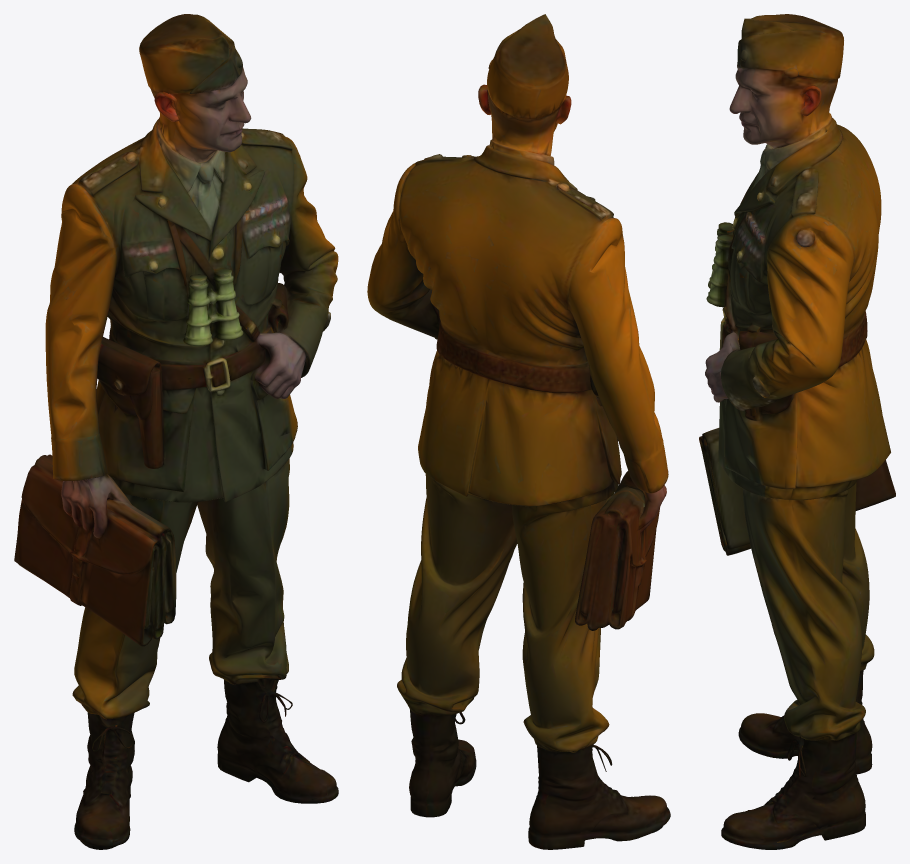
The model's file is char_enemy_officer.glb.
3 views of the same model, side by side, from view 1: azimuth 30°, elevation 25°; view 2: azimuth 150°, elevation 25°; view 3: azimuth 270°, elevation 25° (orthographic).
Visible parts, largest first — view 1: node_0; view 2: node_0; view 3: node_0.
Part boxes in pixels (x1=…): node_0: x1=14, y1=14, x2=338, y2=849; node_0: x1=367, y1=14, x2=670, y2=849; node_0: x1=699, y1=14, x2=895, y2=849.
Size of the model in its own units: 0.4328 by 1.14 by 0.2604.
1 material, 1 textured.
